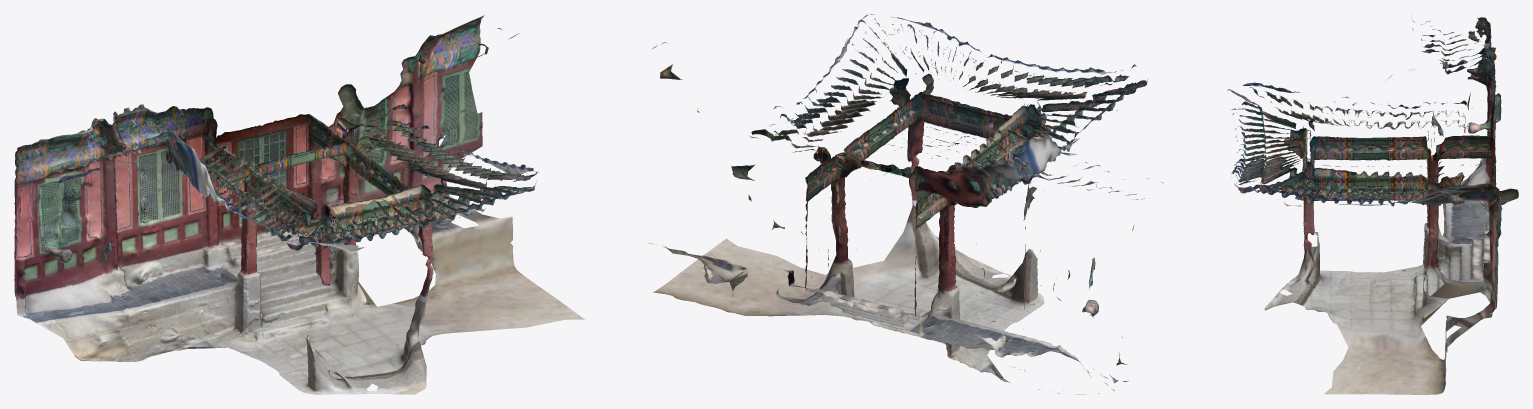
Rendered from intro-palace.glb.
The picture shows the model from 3 angles, left to right: view 1: azimuth 30°, elevation 25°; view 2: azimuth 150°, elevation 25°; view 3: azimuth 270°, elevation 25°; orthographic projection. The views are drawn at different scales.
Parts seen in each view (by area): view 1: k100; view 2: k100; view 3: k100.
Part boxes in pixels (left/top/right/bottom): k100: left=14, top=15, right=584, bottom=394; k100: left=648, top=14, right=1163, bottom=394; k100: left=1227, top=15, right=1518, bottom=394.
Size of the model in its own units: 3.5 by 1.7 by 2.4.
Materials: 1 (1 with a texture image).
